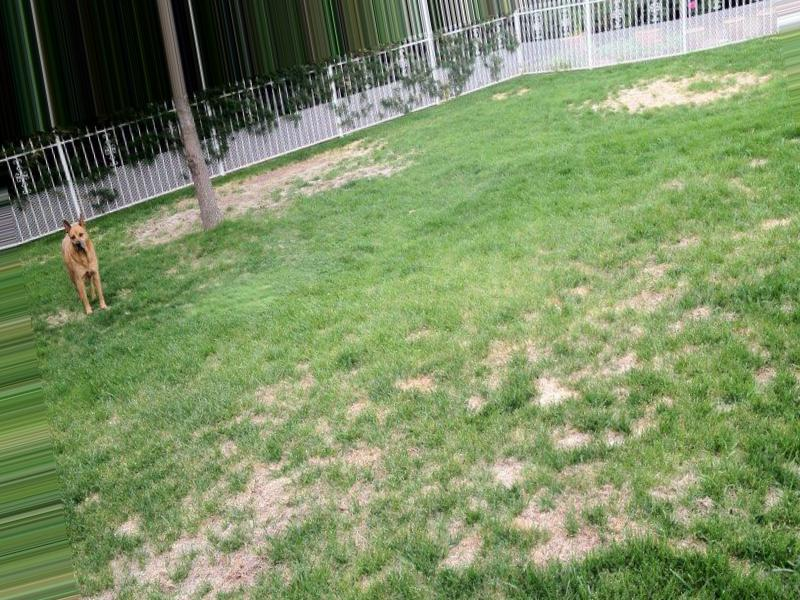patch: (193, 551, 265, 589), (242, 182, 331, 207), (266, 490, 304, 525), (639, 87, 695, 105), (540, 529, 587, 549)
